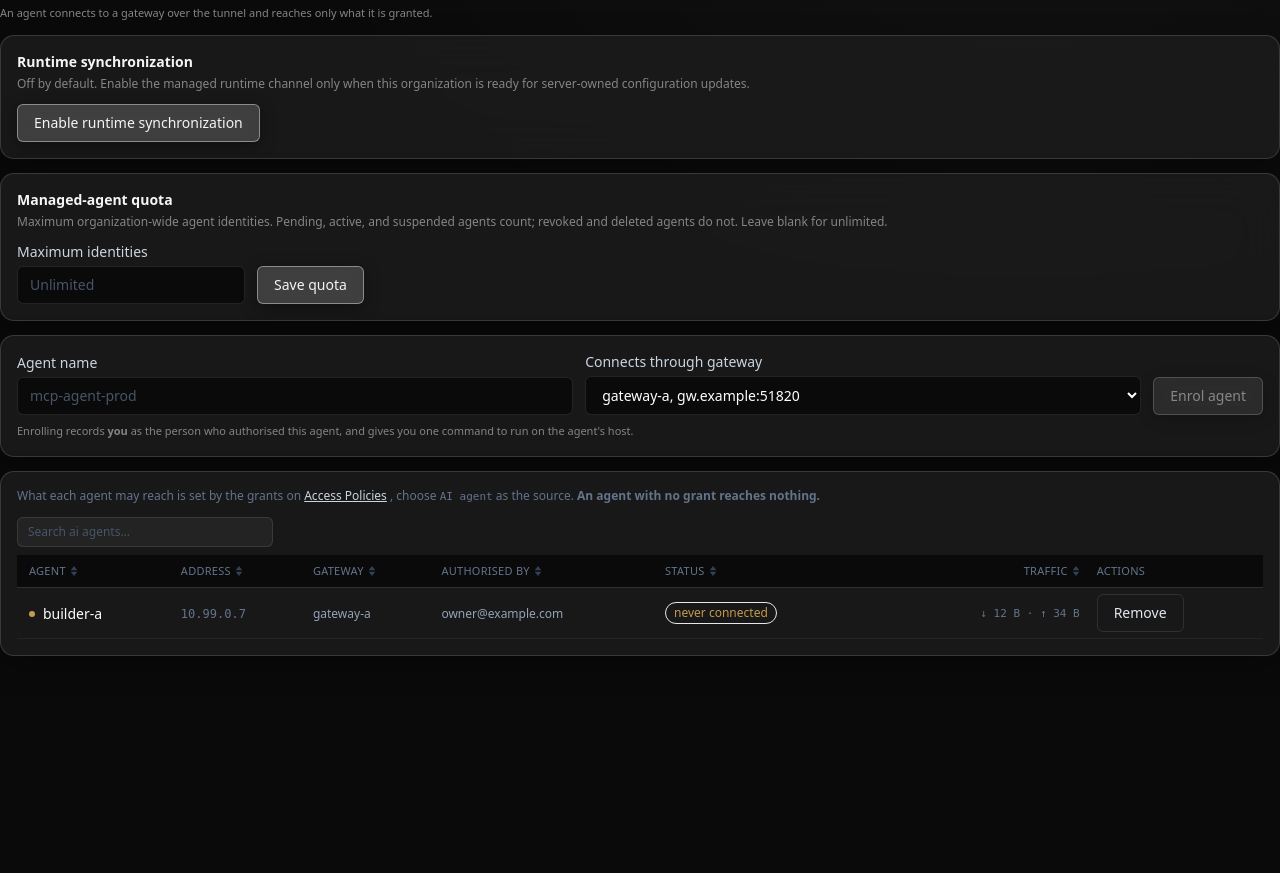
it: released Agents route, F04 runtime facts › renders pending as a non-bypassable lifecycle state
Click the button with aria-label "Open builder-a".
click(66, 614)  # box x1=29 y1=604 x2=102 y2=624
(page scrolled)
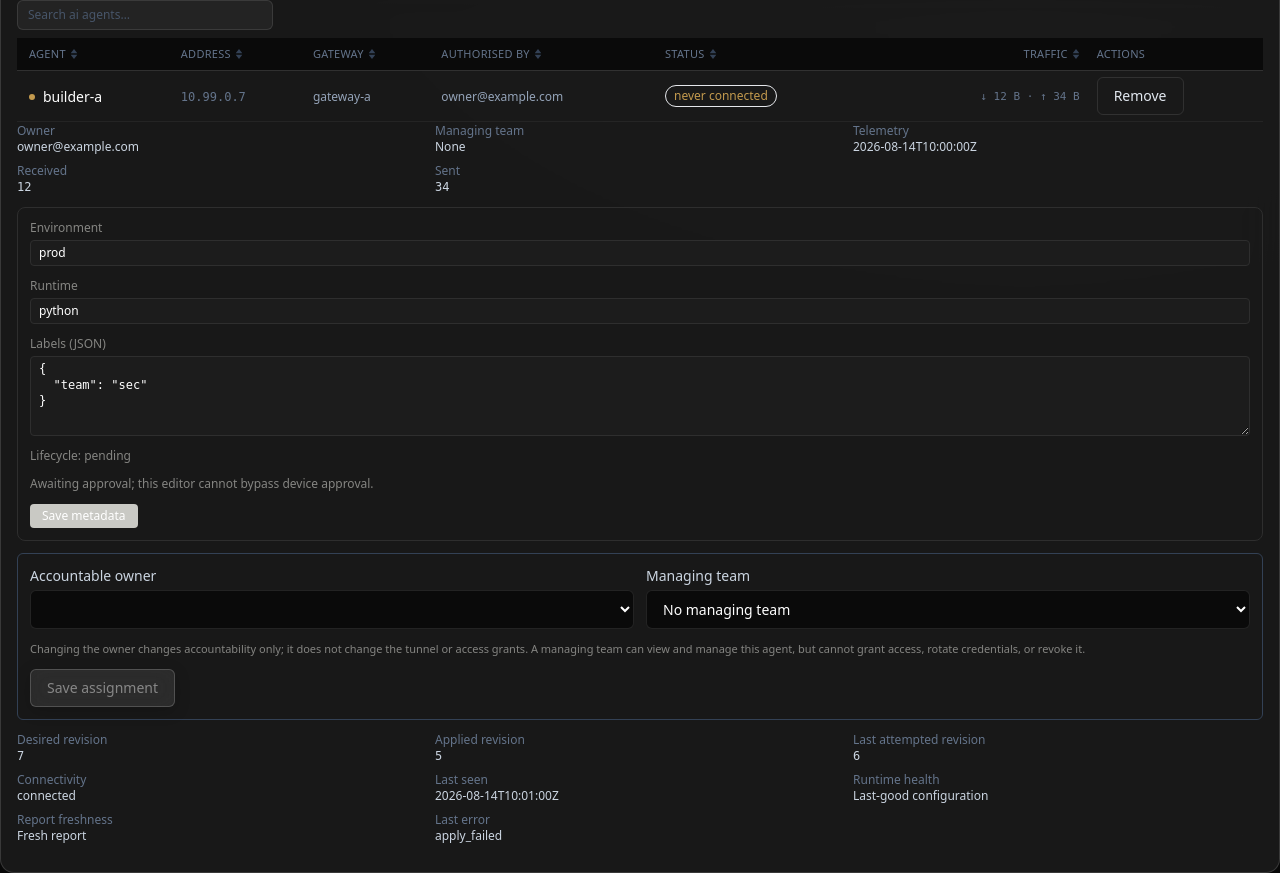
Expected: the text "Awaiting approval" is shown, x1=30 y1=474 x2=374 y2=492
